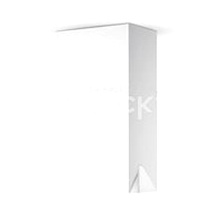carton: (52, 18, 166, 197)
